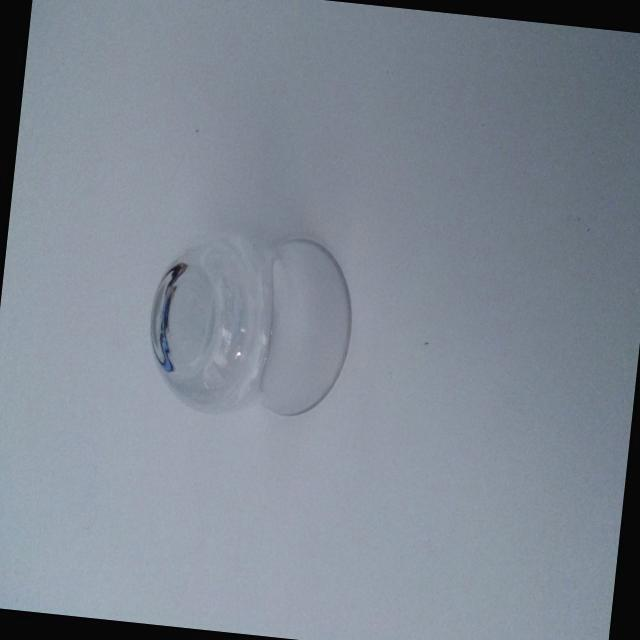glass: (130, 212, 370, 438)
